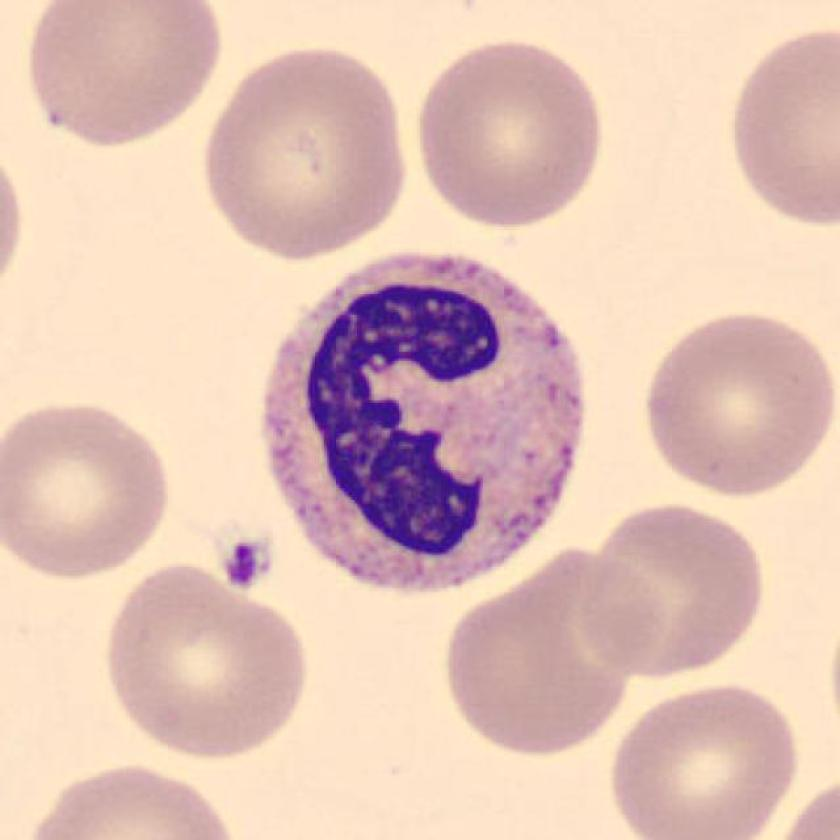neutrophil: (262, 256, 584, 589)
